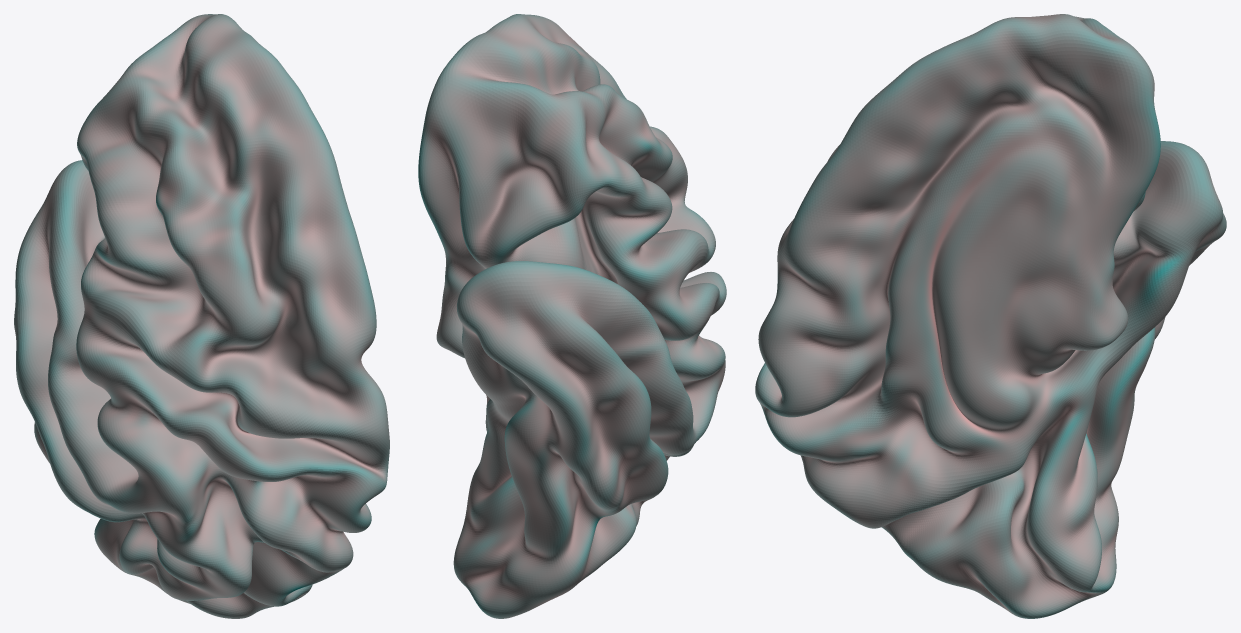
Rendered from cortex_lh_inflated.glb.
3 views of the same model, side by side, from view 1: azimuth 30°, elevation 25°; view 2: azimuth 150°, elevation 25°; view 3: azimuth 270°, elevation 25° (orthographic). The views are drawn at different scales.
Parts seen in each view (by area): view 1: world; view 2: world; view 3: world.
Part boxes in pixels (left/top/right/bottom): world: left=14, top=14, right=389, bottom=618; world: left=418, top=14, right=726, bottom=618; world: left=755, top=14, right=1226, bottom=618.
Size of the model in its own units: 69.33 by 172 by 123.
